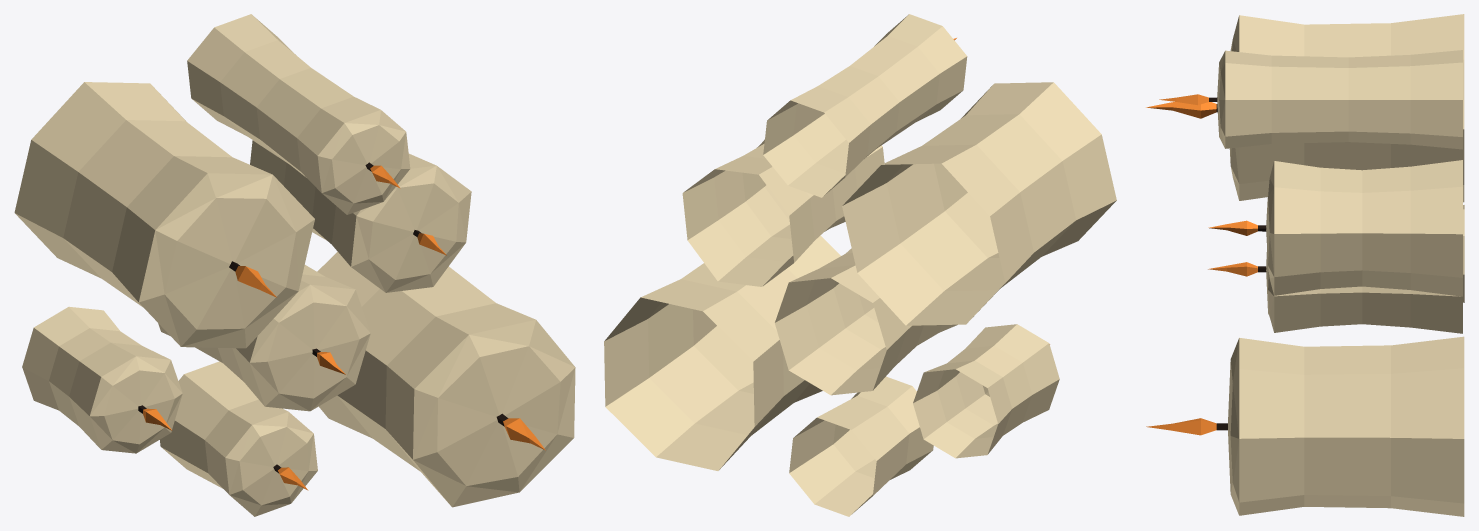
The model's file is quaternius_candles.obj.
3 renders of one model, left to right at view 1: azimuth 30°, elevation 25°; view 2: azimuth 150°, elevation 25°; view 3: azimuth 270°, elevation 25°, orthographic. The views are drawn at different scales.
Parts seen in each view (by area): view 1: Candle, Light; view 2: Candle; view 3: Candle, Light.
Part boxes in pixels (bbox=[...]): Candle: bbox=[14, 14, 575, 516]; Light: bbox=[143, 165, 545, 490]; Candle: bbox=[604, 14, 1116, 516]; Candle: bbox=[1217, 14, 1464, 516]; Light: bbox=[1146, 94, 1257, 435].
Size of the model in its own units: 0.0889 by 0.0851 by 0.0612.
